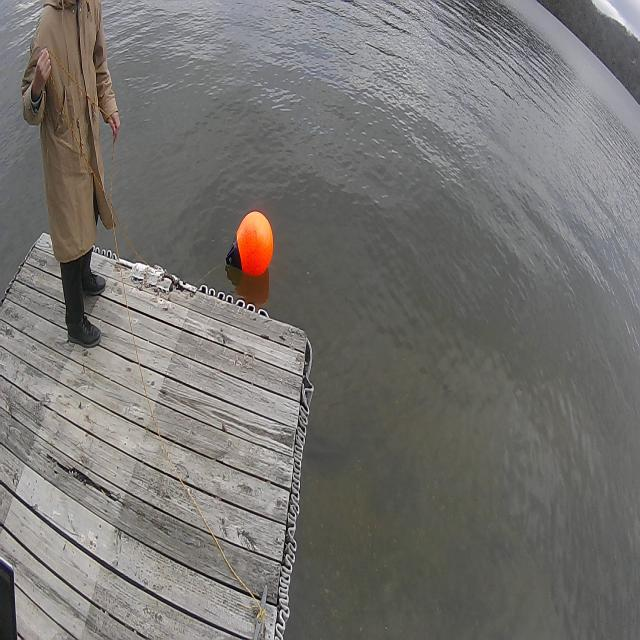Buoy: (225, 206, 276, 291)
